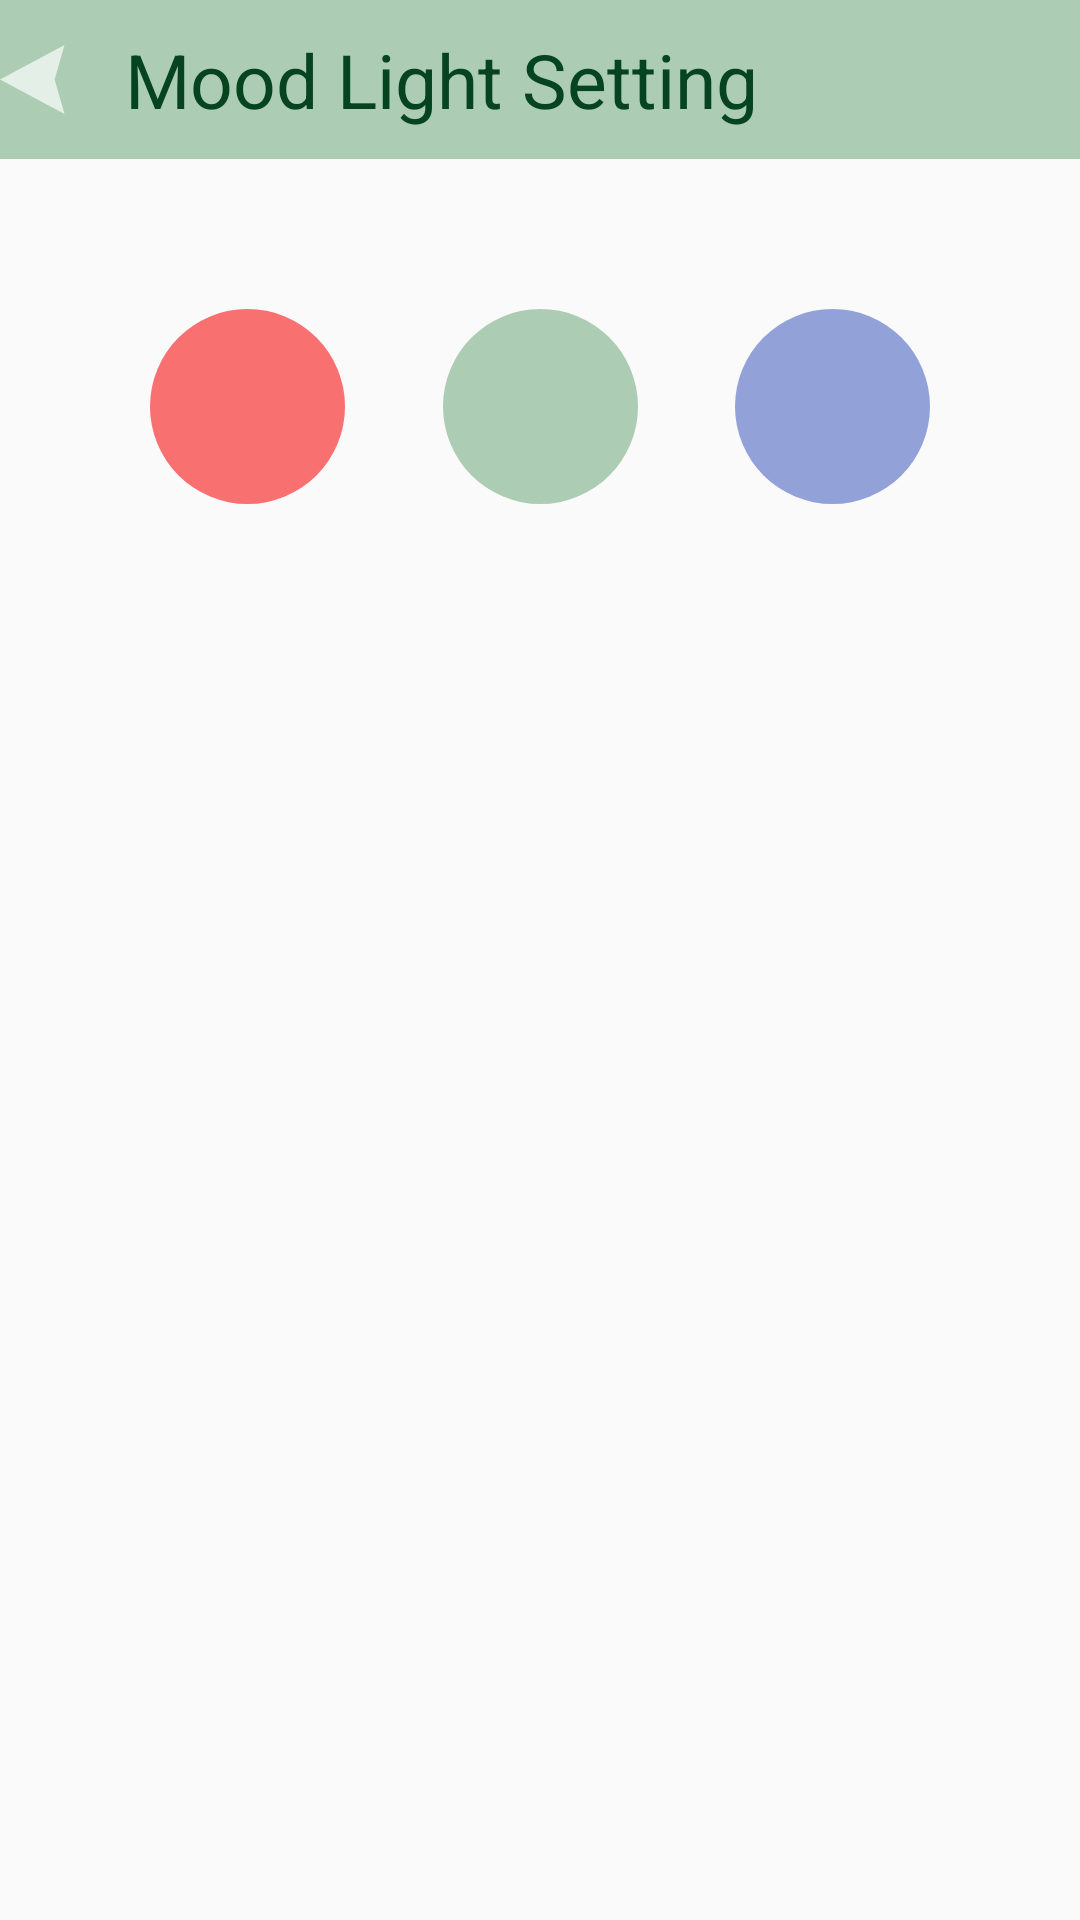

Where to tap for icons on this 1080×1920 app screen, as (x=x, y=y):
arrow: (x=32, y=79)
